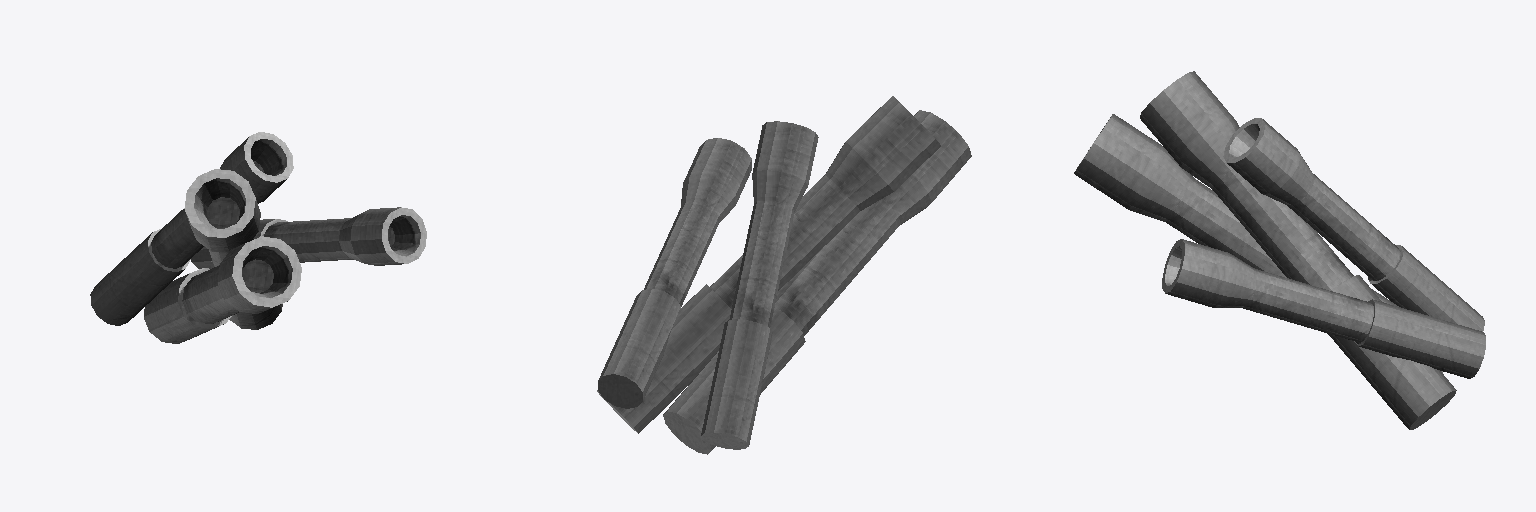
3 renders of one model, left to right at view 1: azimuth 30°, elevation 25°; view 2: azimuth 150°, elevation 25°; view 3: azimuth 270°, elevation 25°, orthographic.
Visible parts, largest first — view 1: Object003; view 2: Object003; view 3: Object003.
Boxes of the visible parts, <box> form: Object003: <box>90,132,426,343</box>; Object003: <box>597,96,971,454</box>; Object003: <box>1074,71,1485,429</box>.
Bounding box in the file's own units: 17.61 × 19.92 × 26.34.
Materials: 1 (1 with a texture image).